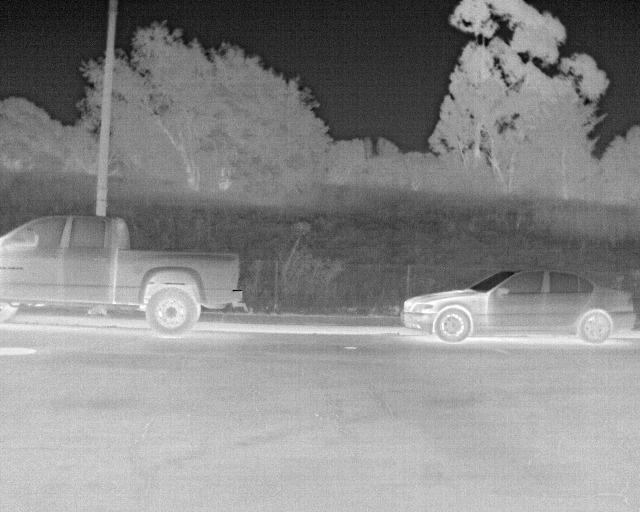car: (0, 211, 246, 339), (401, 269, 638, 344)
